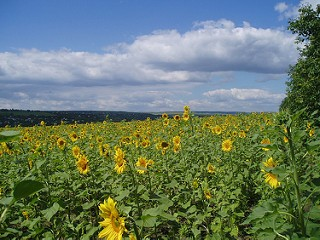flower: (96, 197, 128, 240)
